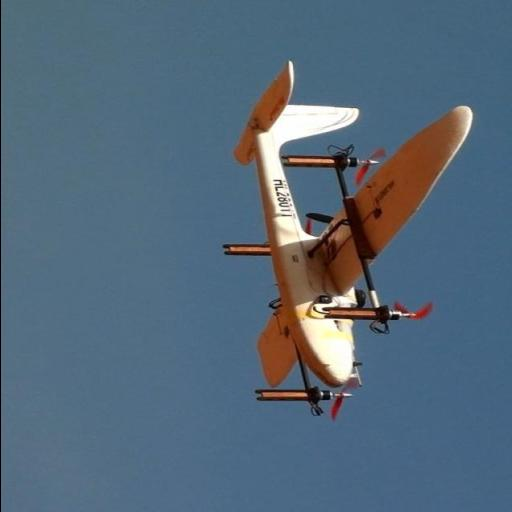uav: (224, 58, 478, 440)
